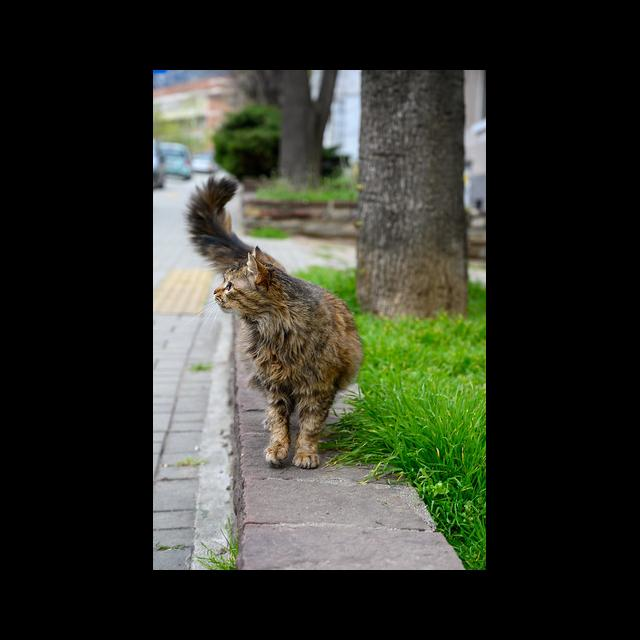animals: (188, 178, 364, 469)
